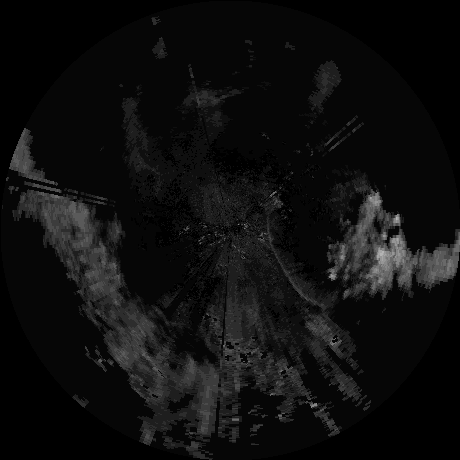frontgust: (266, 207, 327, 308)
